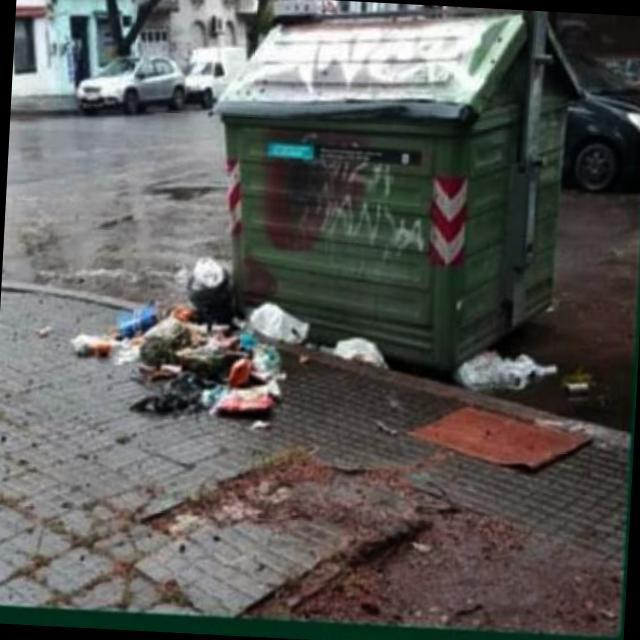garbage: (78, 230, 586, 477)
